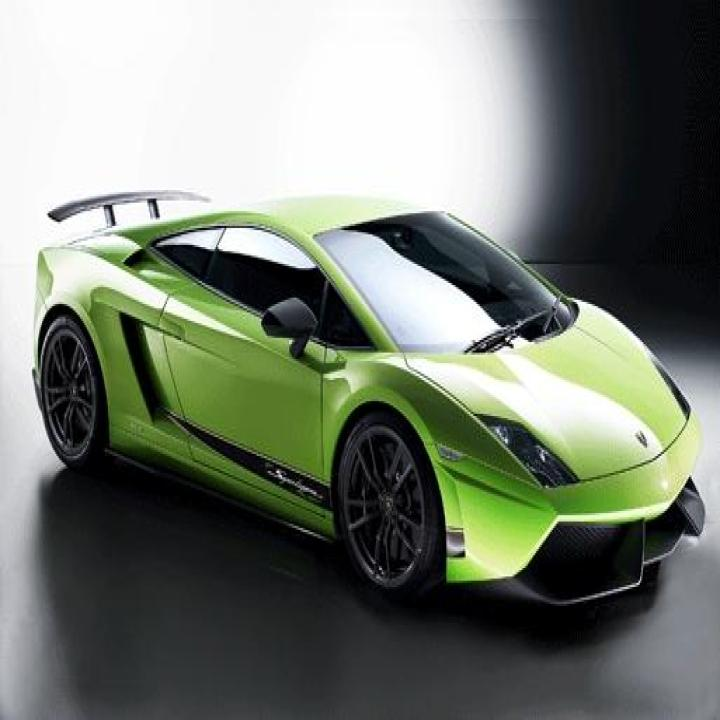car: (31, 188, 704, 612)
